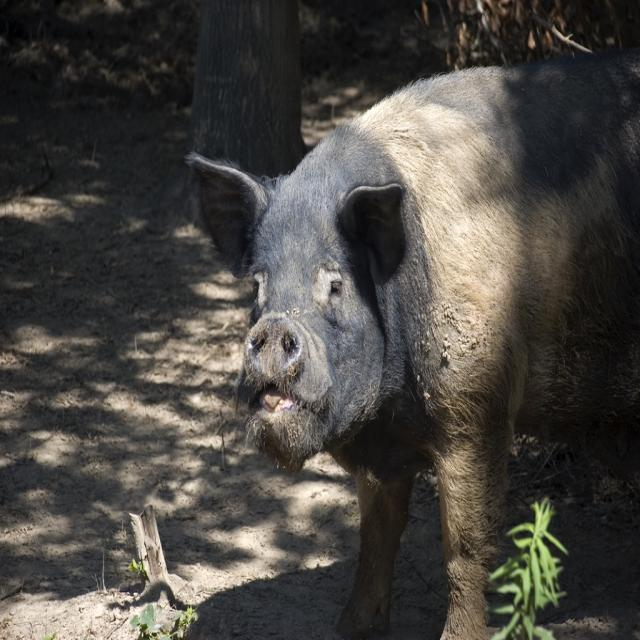Pig: (184, 54, 640, 640)
